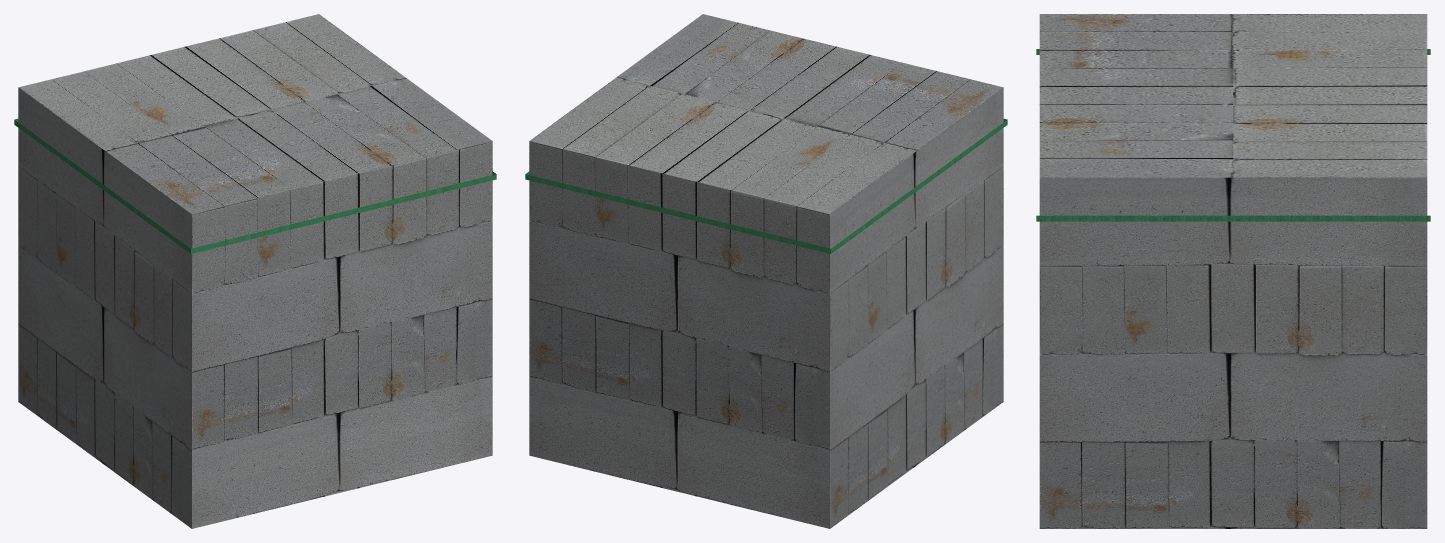
Rendered from Concrete_Blocks_Pile_02.fbx.
The picture shows the model from 3 angles, left to right: view 1: azimuth 30°, elevation 25°; view 2: azimuth 150°, elevation 25°; view 3: azimuth 270°, elevation 25°; orthographic projection. The views are drawn at different scales.
Visible parts, largest first — view 1: Concrete_Blocks_Pile_02_LOD0; view 2: Concrete_Blocks_Pile_02_LOD0; view 3: Concrete_Blocks_Pile_02_LOD0.
Part boxes in pixels (left/top/right/bottom): Concrete_Blocks_Pile_02_LOD0: left=14, top=14, right=496, bottom=528; Concrete_Blocks_Pile_02_LOD0: left=525, top=14, right=1007, bottom=528; Concrete_Blocks_Pile_02_LOD0: left=1036, top=14, right=1430, bottom=528.
Size of the model in its own units: 79.25 by 77.93 by 79.25.
